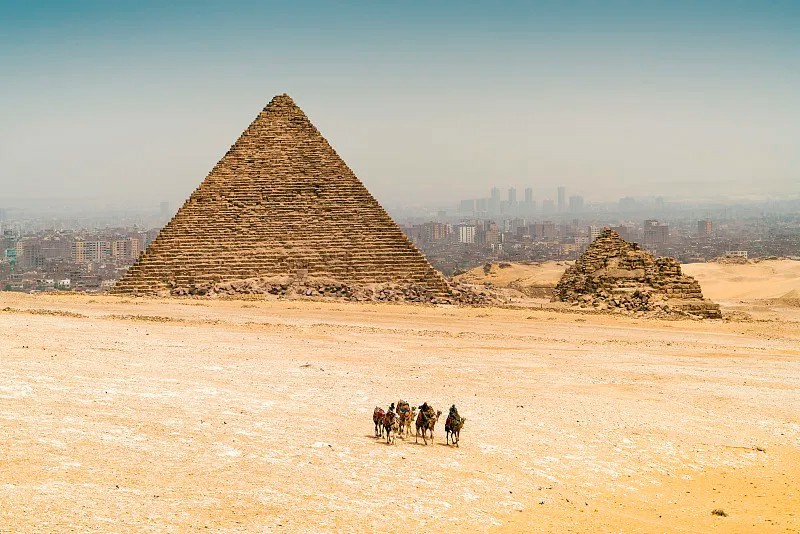Pyramid: (115, 93, 472, 305), (558, 228, 722, 319)
